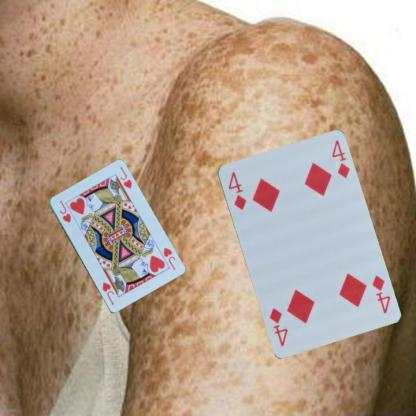4d: (368, 272, 392, 315), (225, 168, 247, 212)
Jh: (161, 245, 176, 272), (57, 198, 72, 224)
